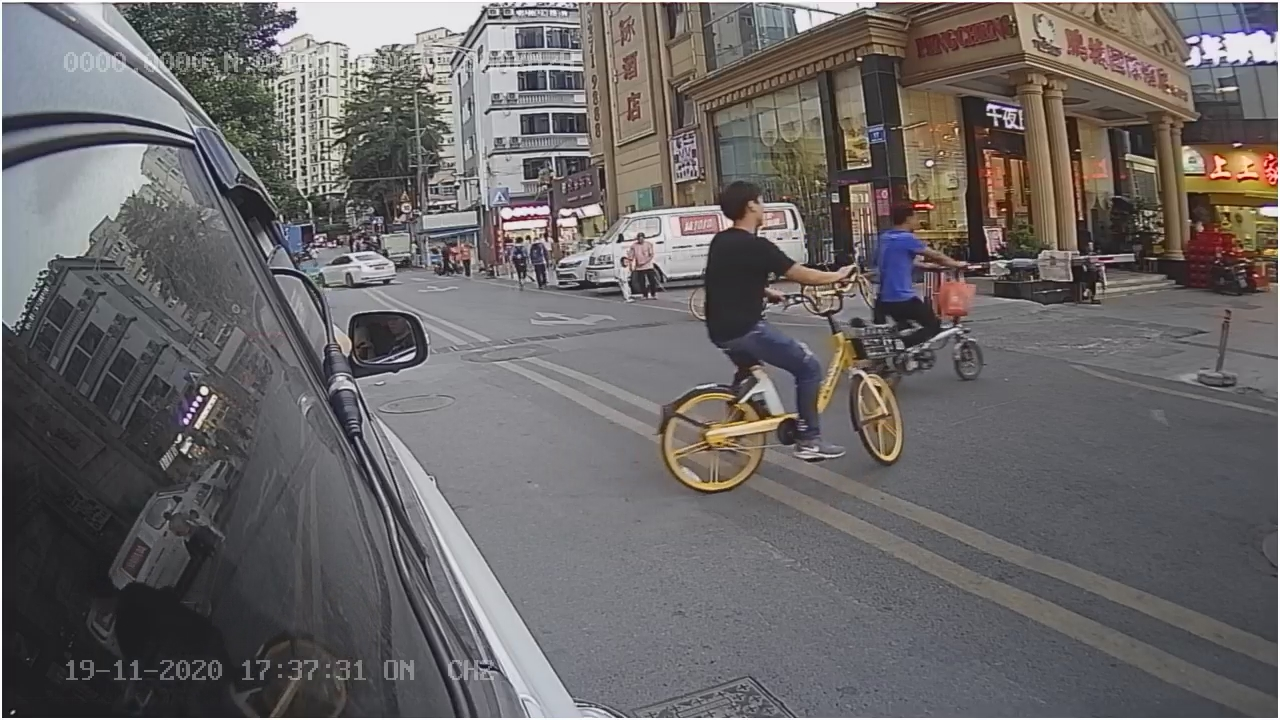person: (705, 178, 840, 368)
